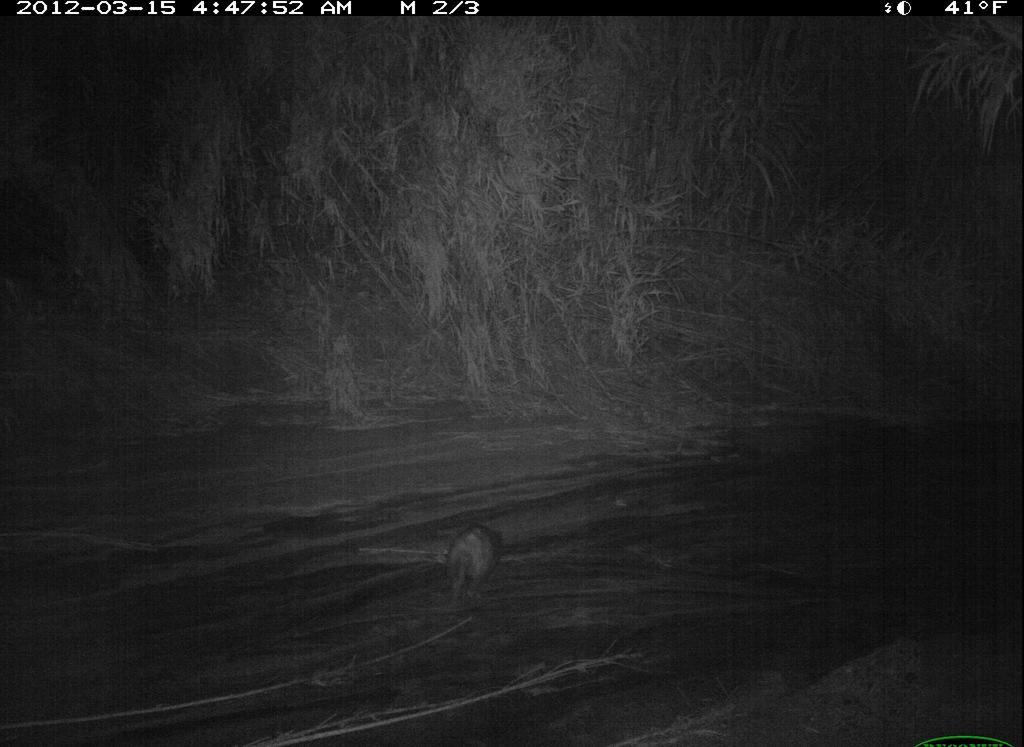opossum: (431, 511, 518, 625)
